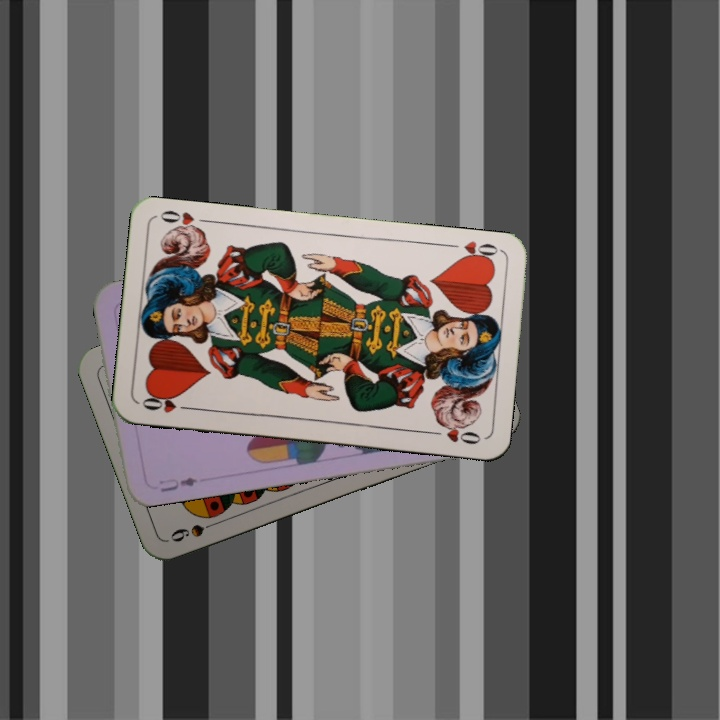EU: (156, 473, 200, 495)
HO: (444, 237, 503, 265), (137, 390, 195, 416)
S9: (166, 516, 223, 545)
